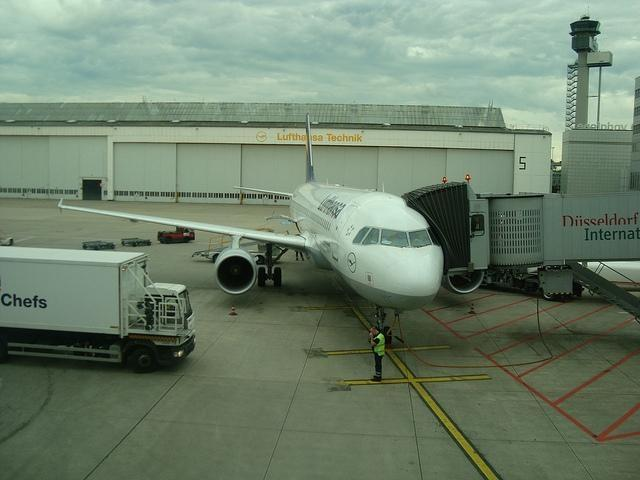truck: (0, 244, 197, 374), (156, 226, 196, 245)
